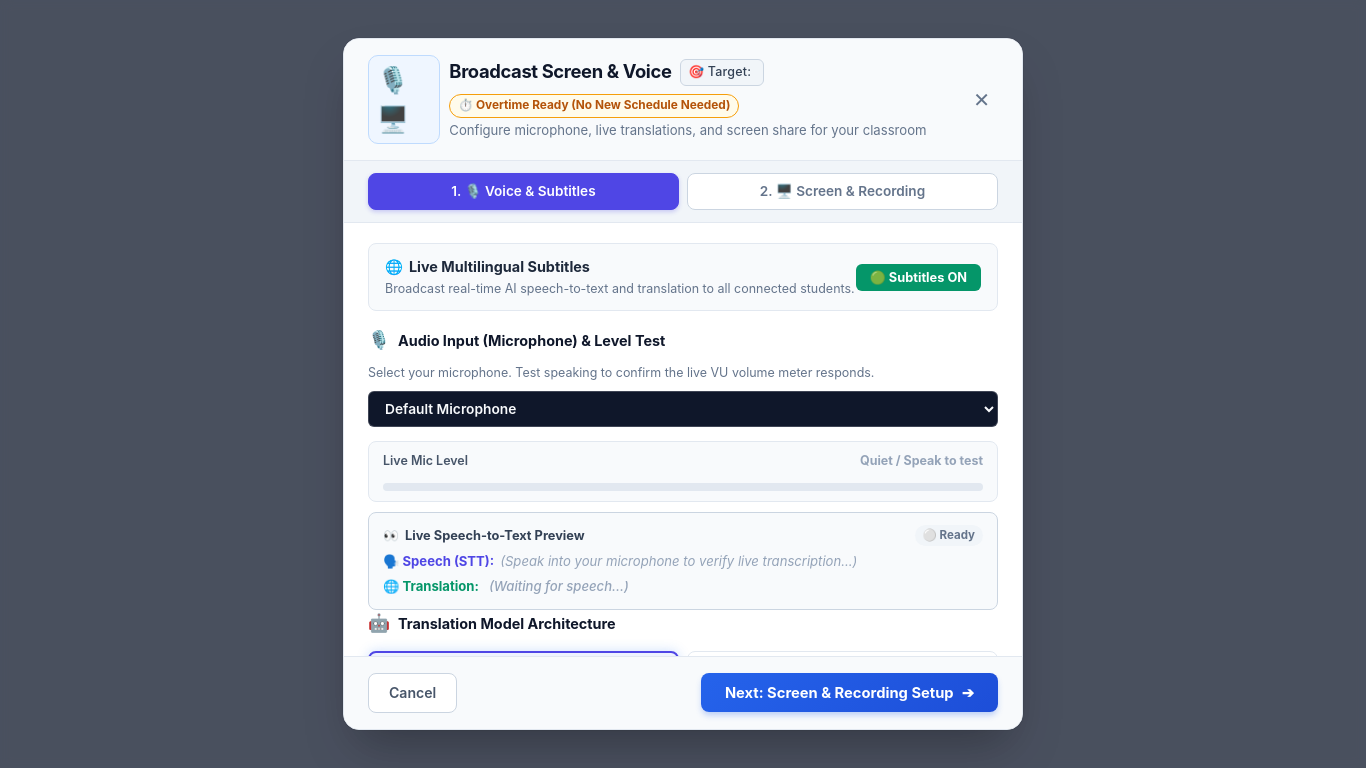
Test: TeacherScreenBroadcastModal › allows navigating back from Step 2 to Step 1 via Back to Voice Setup button
Note: Go to Step 2
Click the button "Next: Screen & Recording Setup ➔": (849, 693) [701,673,998,712]
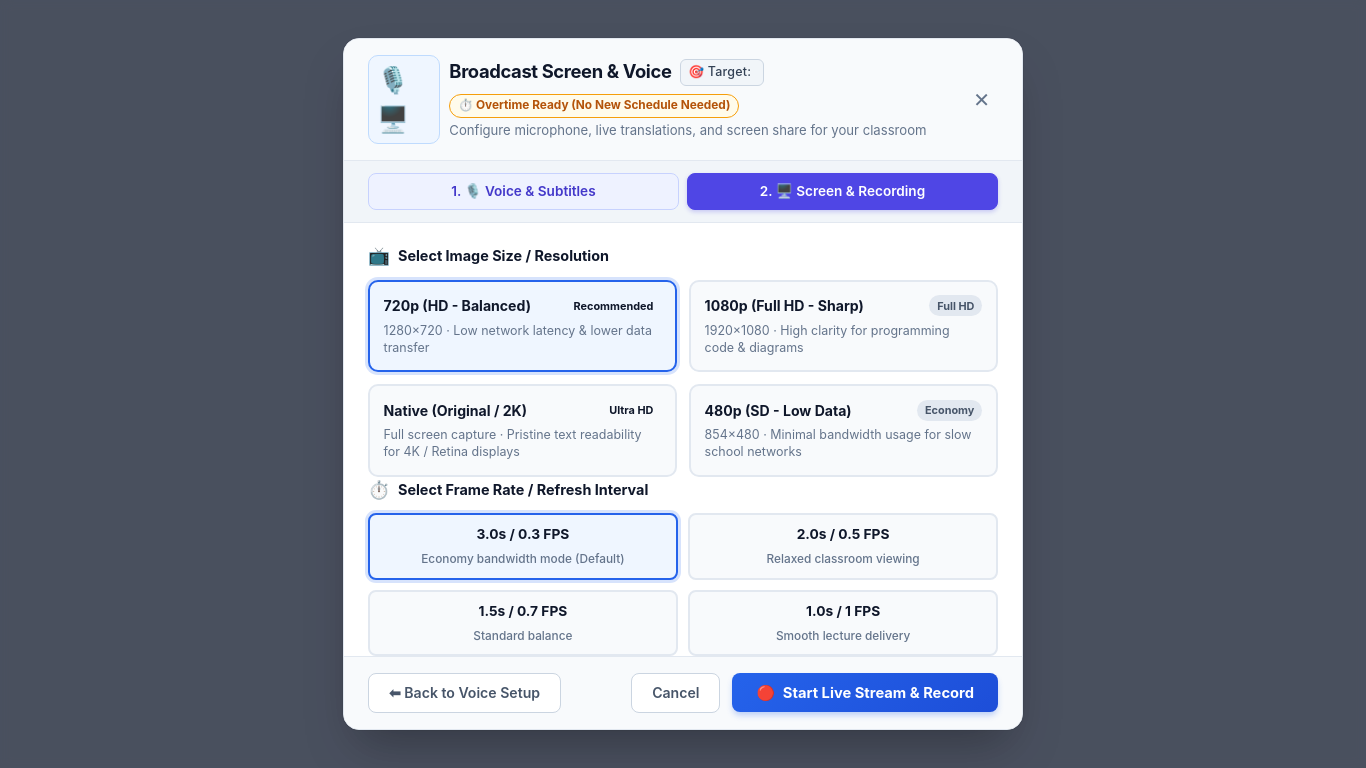
Expected: the text "1080p (Full HD - Sharp)" is shown, [705,295,864,316]
Note: Click Back to Voice Setup
Click the button "⬅ Back to Voice Setup": (464, 693) [368,673,561,713]
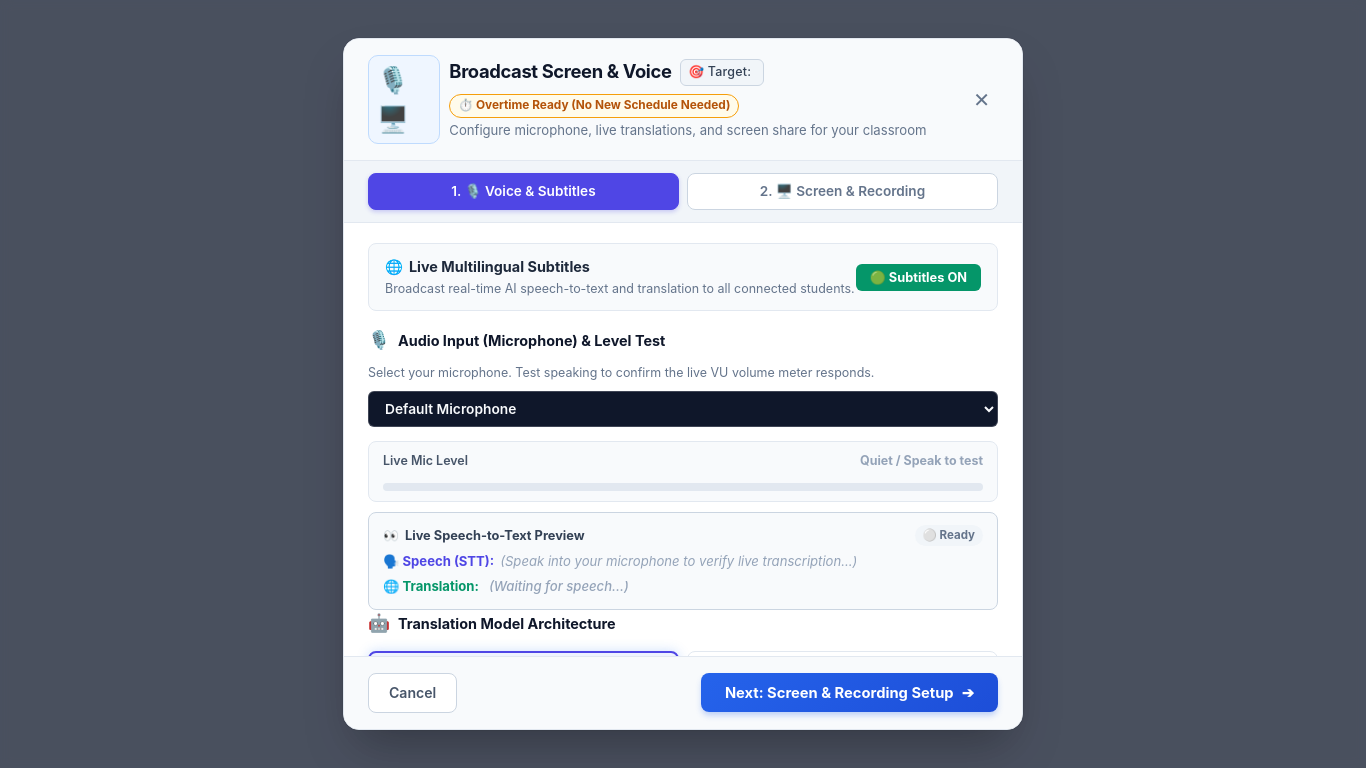
Expected: the text "Audio Input (Microphone) & Level Test" is shown, [398,330,665,351]
